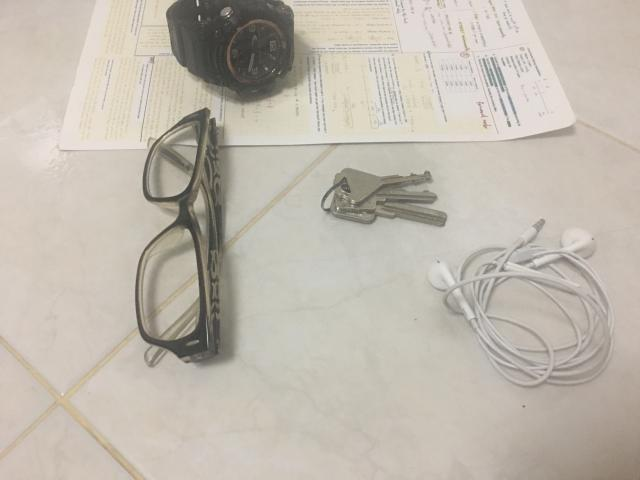Glasses: (135, 109, 222, 366)
Keys: (321, 168, 446, 226)
Watch: (166, 0, 295, 98)
paper: (60, 0, 575, 150)
wire: (428, 219, 614, 386)
